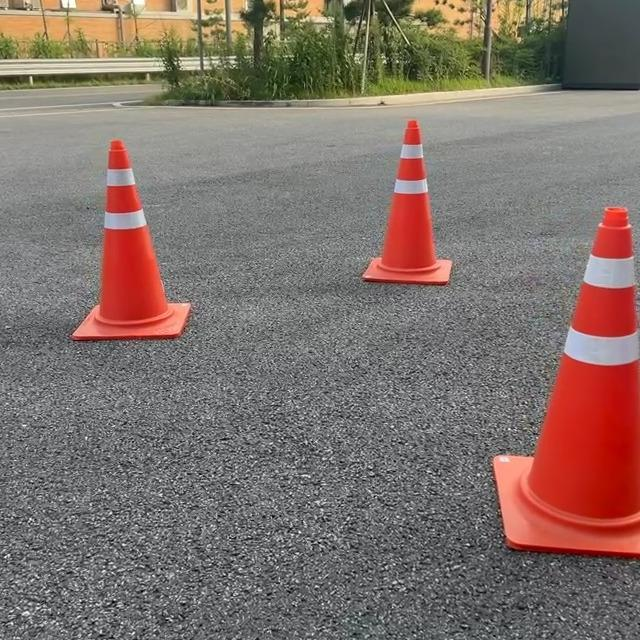fallen_object: (523, 161, 640, 640), (23, 123, 212, 408), (343, 109, 490, 325)
